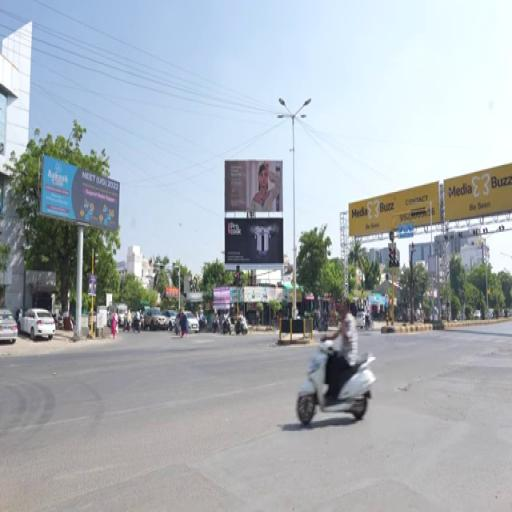Car: (20, 309, 55, 339), (0, 309, 18, 344), (144, 308, 166, 329), (186, 312, 199, 332), (164, 311, 176, 329), (356, 312, 365, 328)
